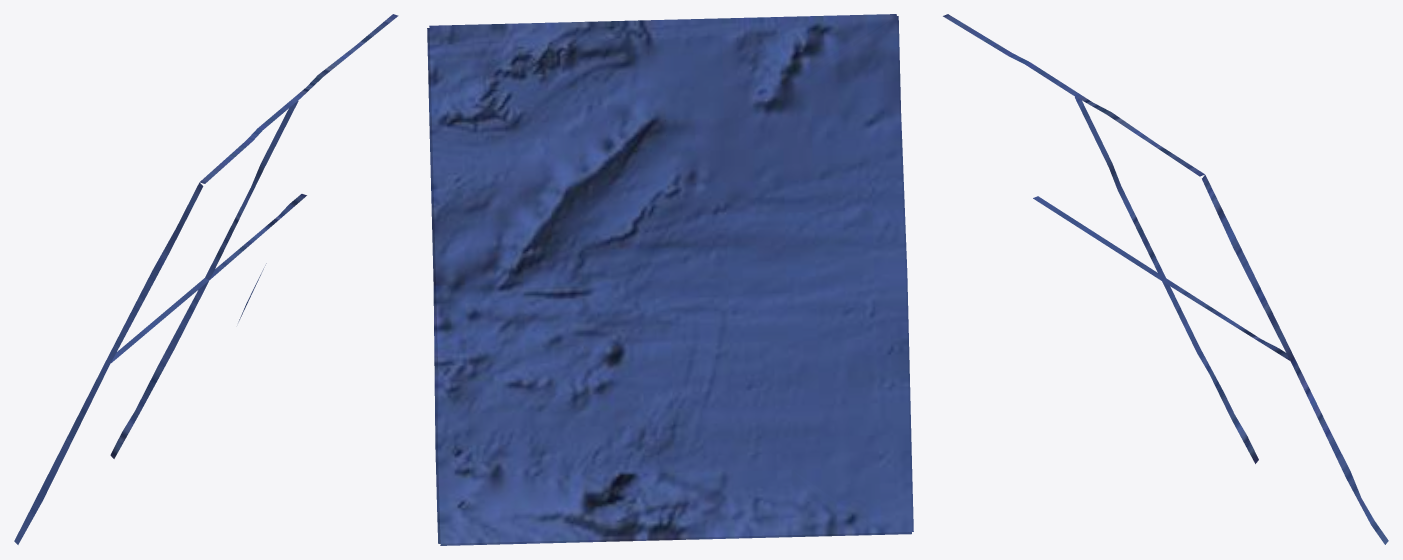
The picture shows the model from 3 angles, left to right: view 1: azimuth 30°, elevation 25°; view 2: azimuth 150°, elevation 25°; view 3: azimuth 270°, elevation 25°; orthographic projection. The views are drawn at different scales.
Bounding box in the file's own units: 78284 × 71876 × 68672.
1 material, 1 textured.
